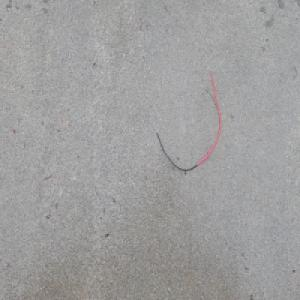Wire: (150, 63, 222, 172)
